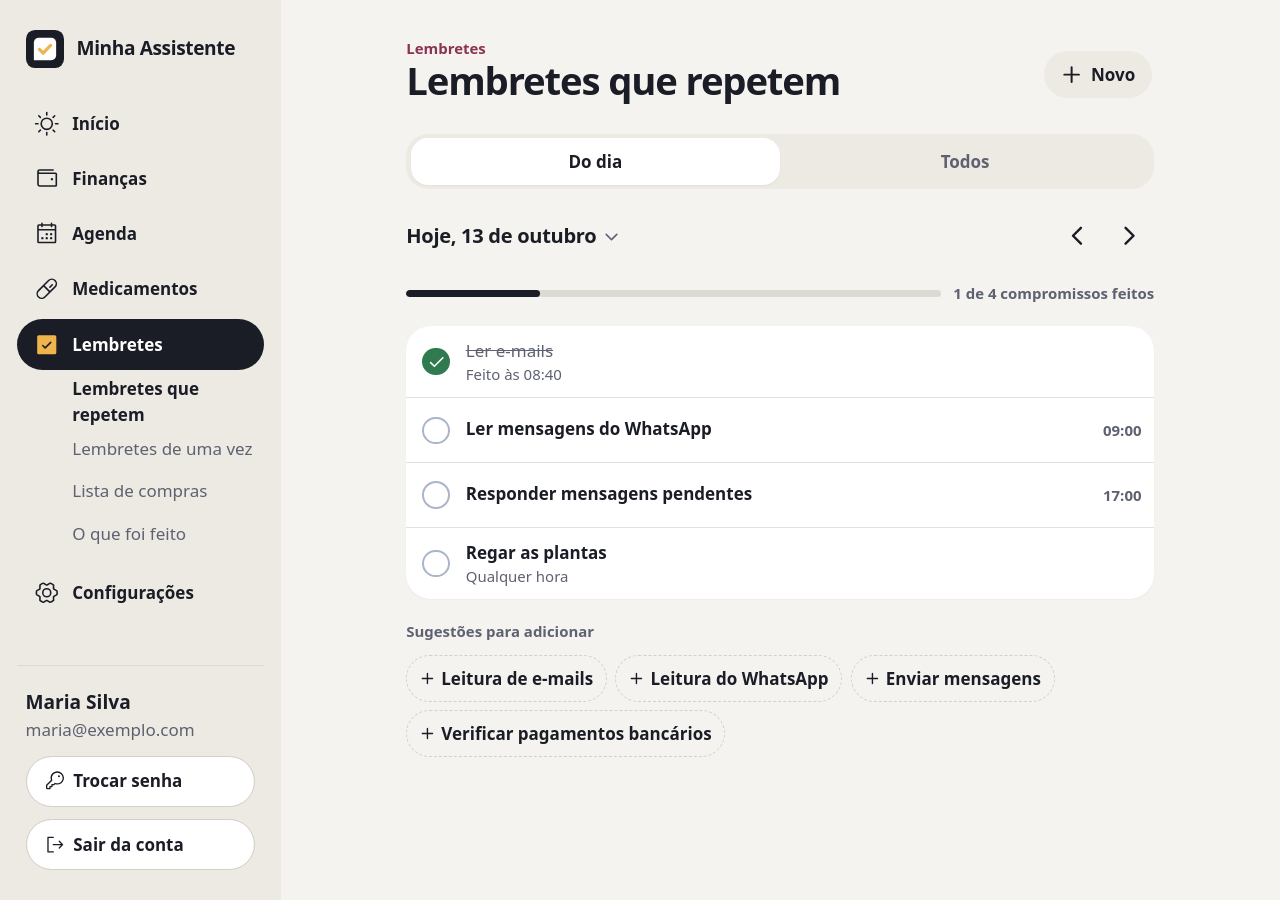
tarefas do dia › erro do servidor desfaz a marcação
The width and height of the screenshot is (1280, 900).
Step 1. Click the checkbox named "Ler mensagens do WhatsApp" → click(436, 430), box [410,405,462,456]
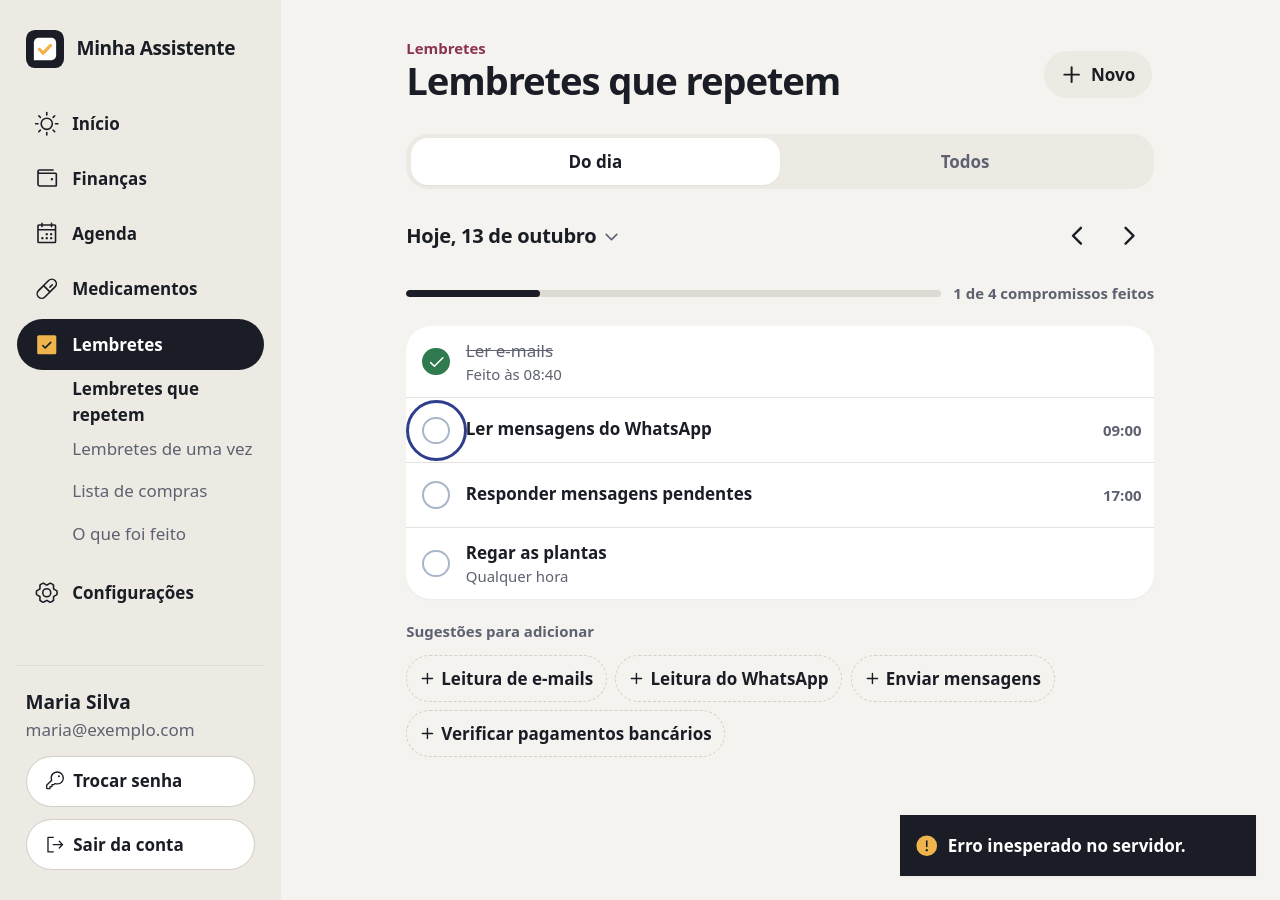
Check: the text "Erro inesperado no servidor." is shown, box [948,832,1186,858]
